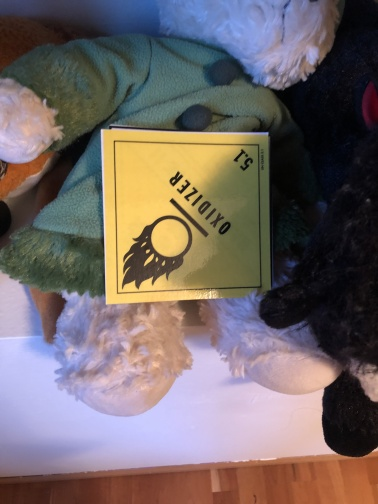Oxidizer: (101, 127, 272, 304)
